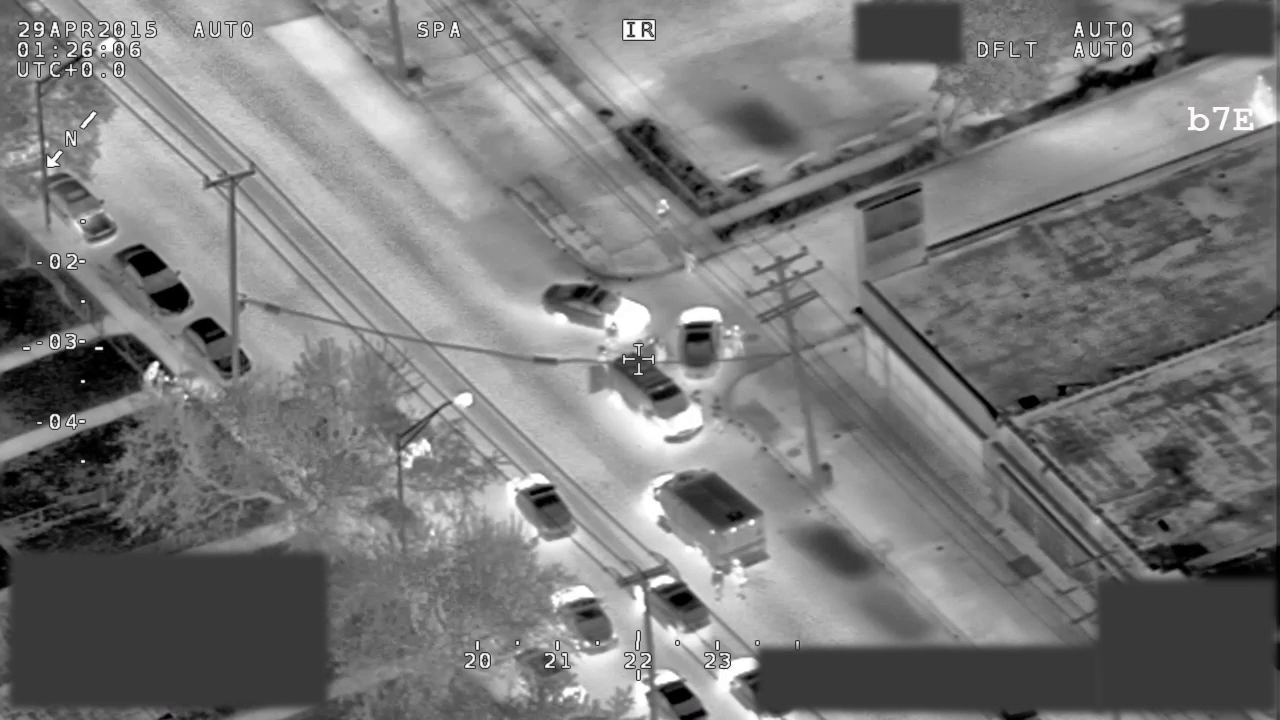vehicle: (639, 464, 774, 577), (328, 360, 441, 477), (585, 351, 707, 443), (256, 393, 349, 496), (356, 491, 455, 584), (540, 278, 655, 343), (500, 644, 597, 720), (623, 565, 716, 638), (37, 169, 121, 247), (116, 238, 196, 319), (714, 651, 795, 720), (547, 580, 618, 656), (505, 470, 577, 541), (628, 664, 712, 720), (185, 316, 254, 381), (675, 304, 727, 386)
